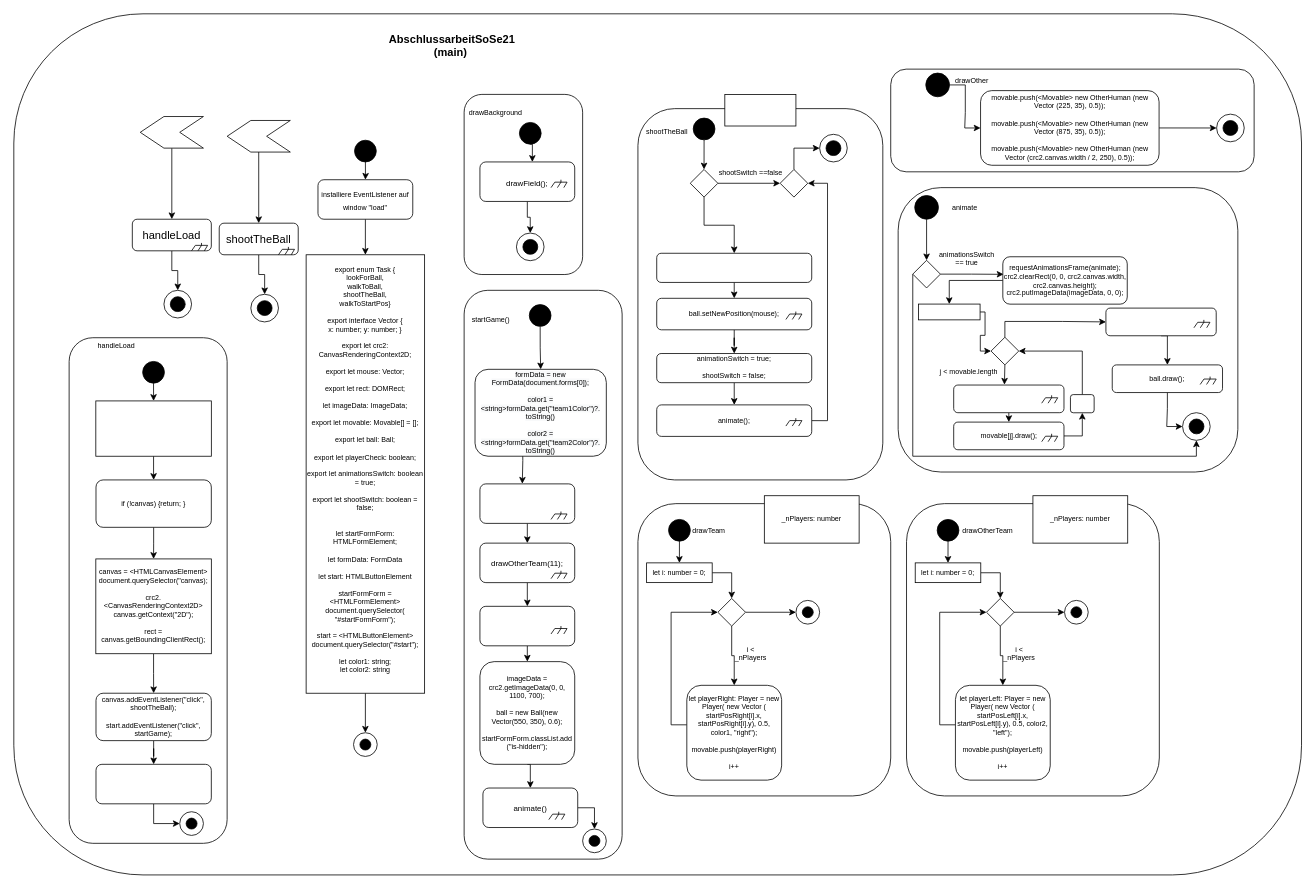
Some shapes in this 1315 by 889 pixel diagram are drawn without their labels. The shapes that lost their labels are listed below. From the top down, each one's centre as x and y in pixels, then its label:
[760,110]: _event: MouseEvent
[171,132]: load
[258,136]: click on canvas
[734,267]: mouse = new Vector(_event.clientX - rect.left, _event.clientY - rect.top);
[949,311]: let j: number = 0;
[1160,321]: ball.update();
[1008,398]: movable[j].update();
[1082,403]: j++
[153,428]: let canvas: HTMLCanvasElement | null = document.querySelector("canvas");
[527,503]: drawTeam(11);
[527,626]: drawOther()
[153,784]: drawBackground();
